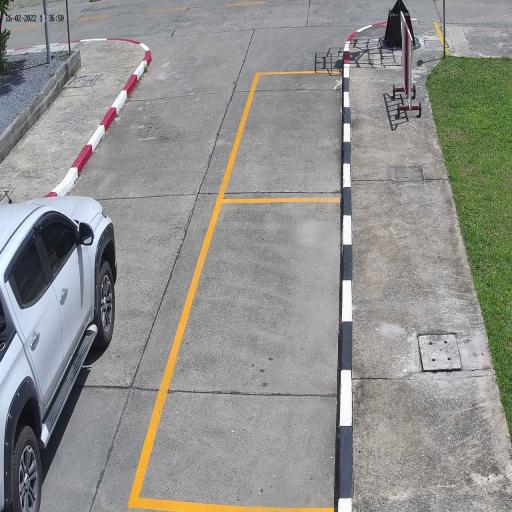car: (0, 197, 117, 511)
